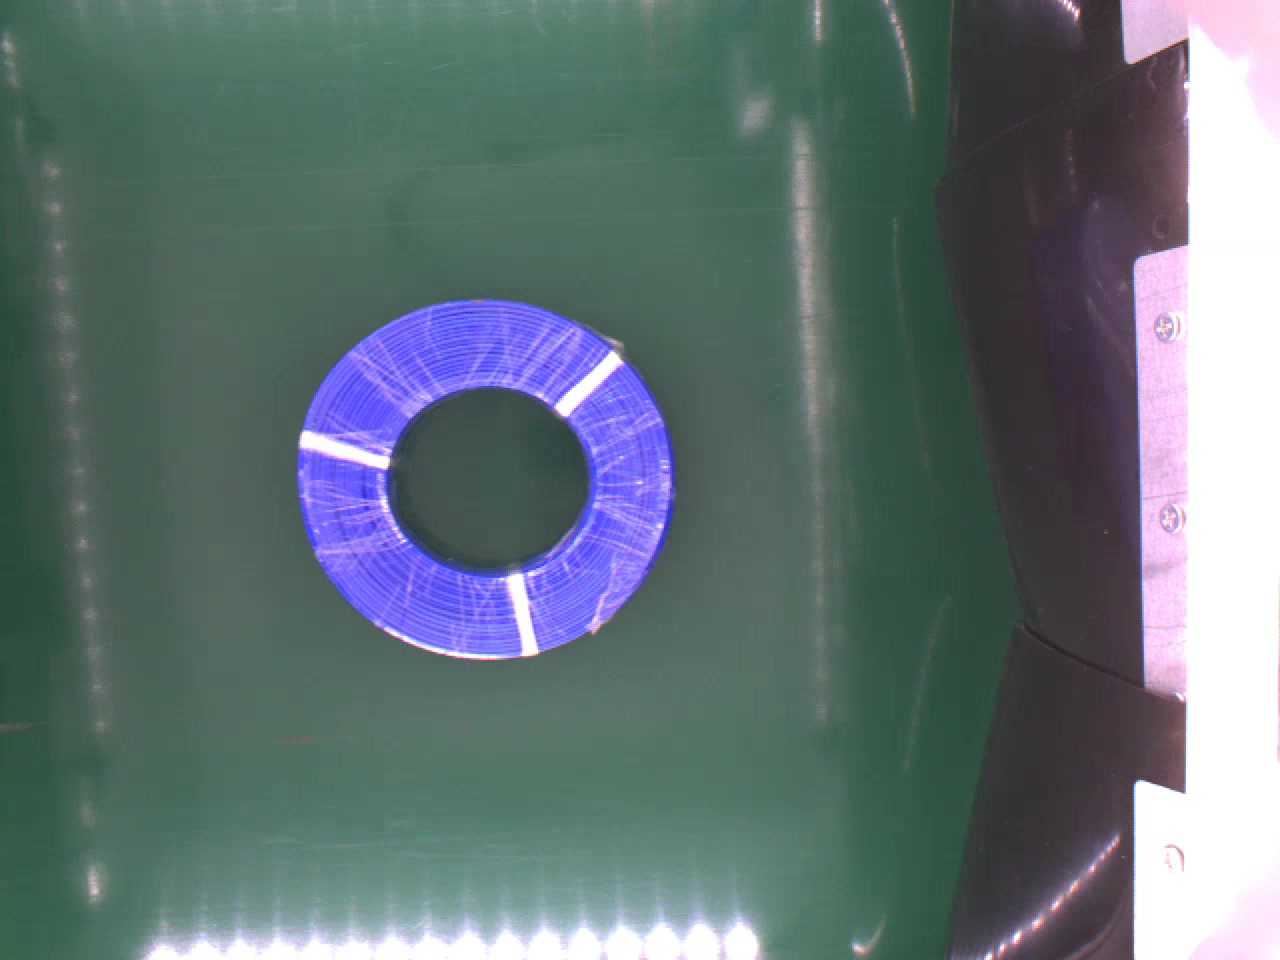blue: (299, 290, 674, 662)
